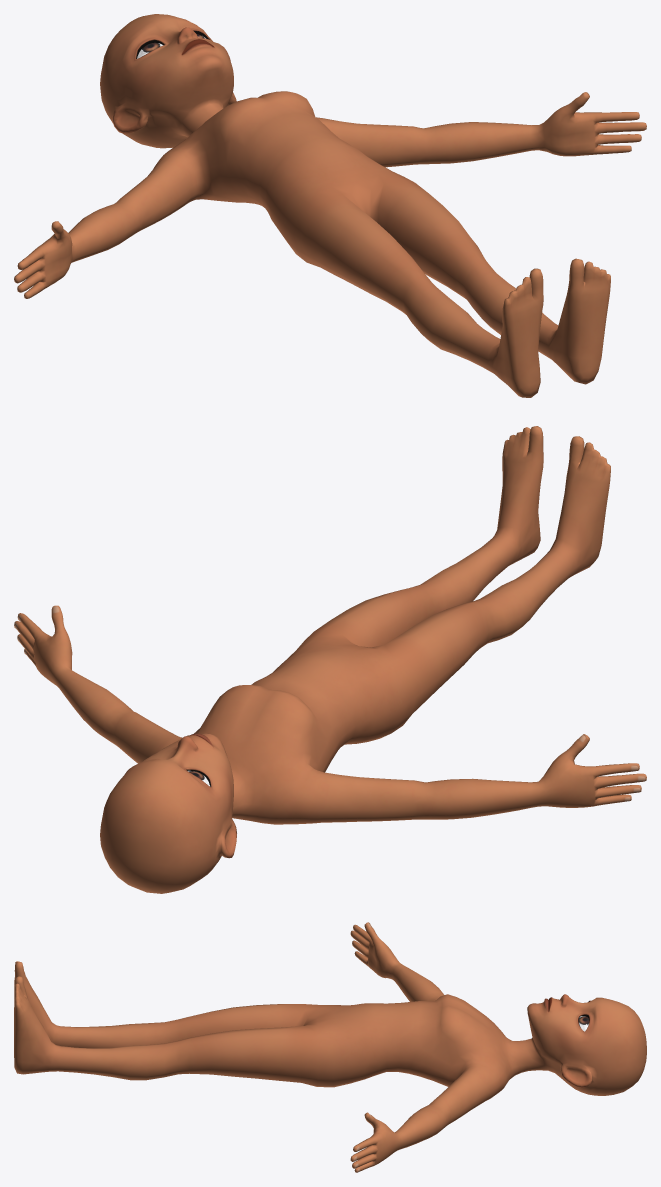
File: frame_0002.glb
3 views of the same model, one above another, from view 1: azimuth 30°, elevation 25°; view 2: azimuth 150°, elevation 25°; view 3: azimuth 270°, elevation 25° (orthographic). The views are drawn at different scales.
Visible parts, largest first — view 1: head_geo_frozen; view 2: head_geo_frozen; view 3: head_geo_frozen.
Boxes of the visible parts, x1,y1,x2,y2 form: head_geo_frozen: [14, 14, 646, 397]; head_geo_frozen: [14, 426, 646, 893]; head_geo_frozen: [14, 922, 646, 1172].
Size of the model in its own units: 128 by 32.34 by 150.
4 materials, 4 textured.
